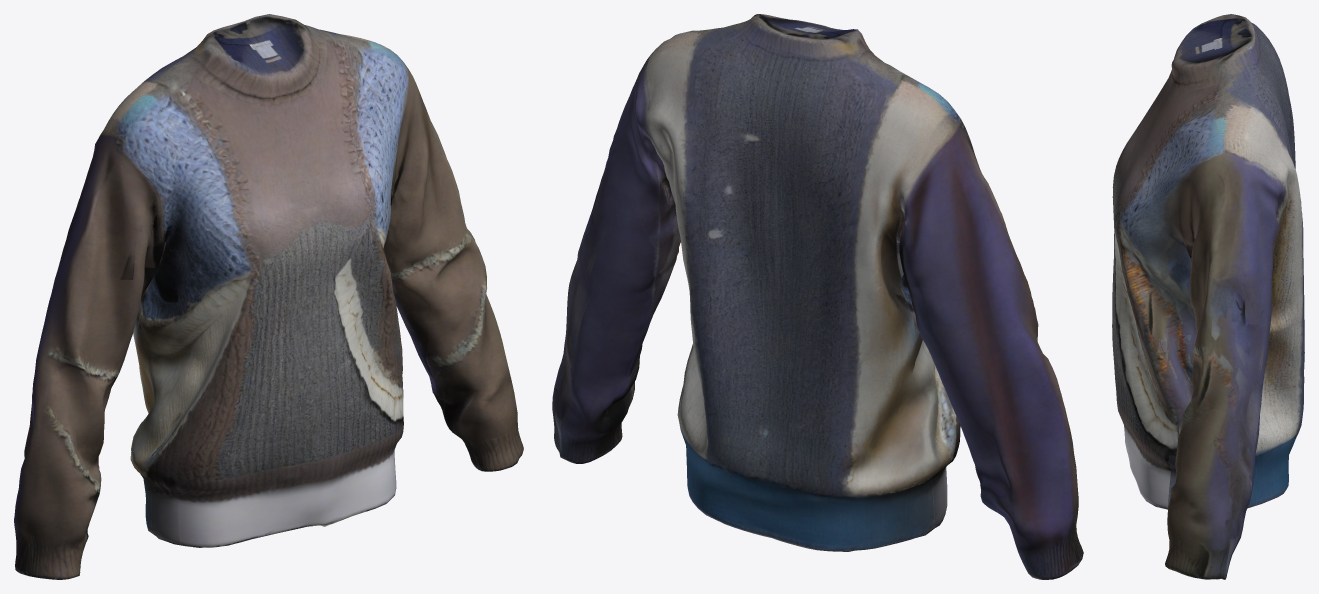
File: product06.glb
3 views of the same model, side by side, from view 1: azimuth 30°, elevation 25°; view 2: azimuth 150°, elevation 25°; view 3: azimuth 270°, elevation 25° (orthographic). The views are drawn at different scales.
Size of the model in its own units: 1.99 by 1.83 by 0.7163.
1 material, 1 textured.
